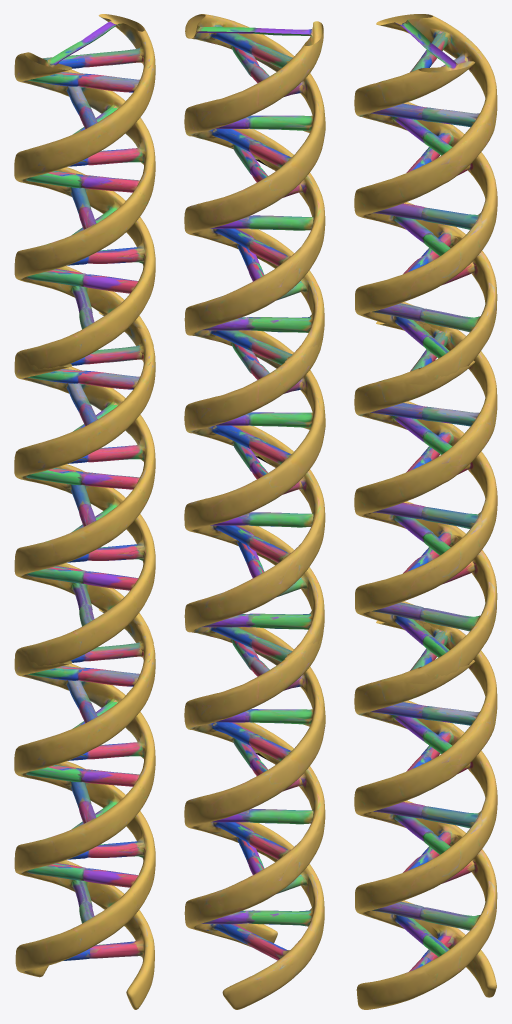
File: adn-alto.glb
The picture shows the model from 3 angles, left to right: view 1: azimuth 30°, elevation 25°; view 2: azimuth 150°, elevation 25°; view 3: azimuth 270°, elevation 25°; orthographic projection.
Visible parts, largest first — view 1: adn_alto; view 2: adn_alto; view 3: adn_alto.
Part boxes in pixels (box(x1,y1,x2,y2)): adn_alto: box(14, 14, 155, 1009); adn_alto: box(184, 14, 325, 1009); adn_alto: box(354, 14, 497, 1009).
Bounding box in the file's own units: 0.6224 × 4.61 × 0.6236.
1 material, 1 textured.
